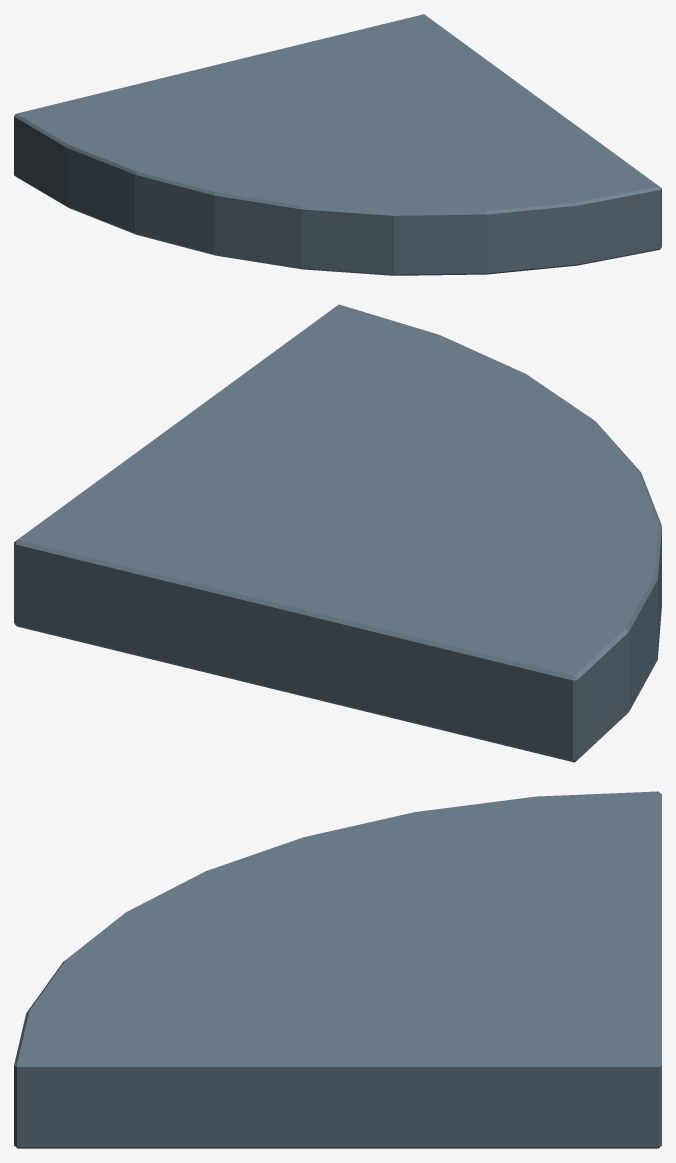
File: P49_Quarter_Disc.fbx
3 views of the same model, one above another, from view 1: azimuth 30°, elevation 25°; view 2: azimuth 150°, elevation 25°; view 3: azimuth 270°, elevation 25° (orthographic). The views are drawn at different scales.
Parts seen in each view (by area): view 1: P49_Quarter_Disc; view 2: P49_Quarter_Disc; view 3: P49_Quarter_Disc.
Boxes of the visible parts, x1,y1,x2,y2 form: P49_Quarter_Disc: (14,14,661,275); P49_Quarter_Disc: (14,304,661,762); P49_Quarter_Disc: (14,791,661,1148).
Bounding box in the file's own units: 1.5 × 0.22 × 1.5.
1 material, 1 textured.
